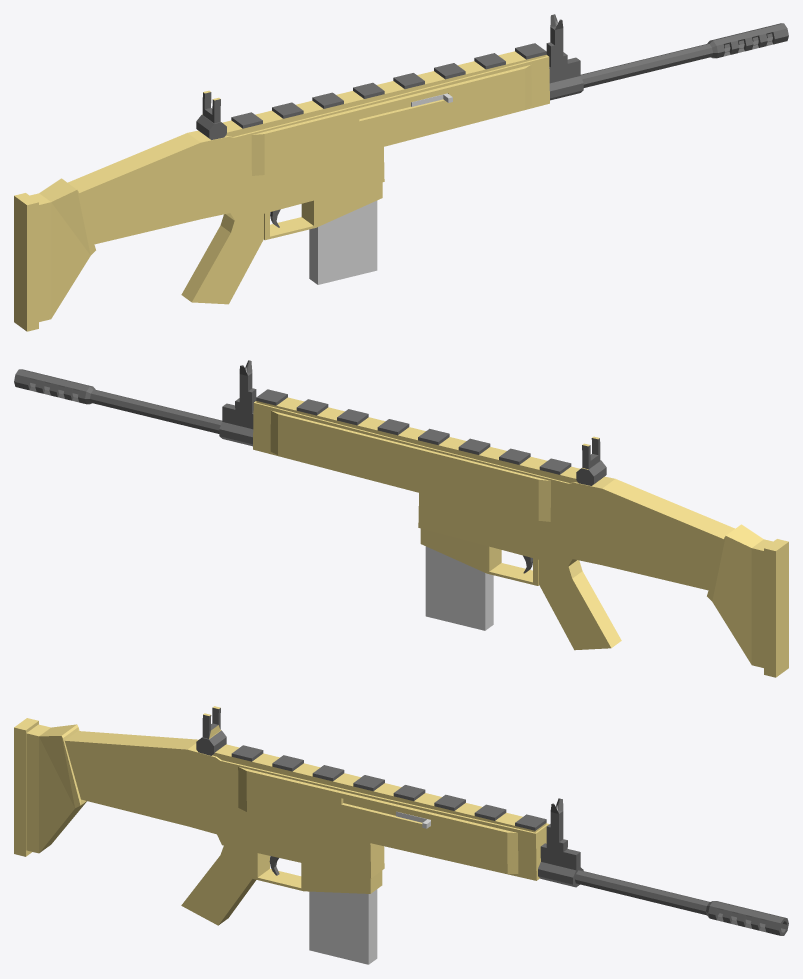
The model's file is Scar.dae.
3 renders of one model, top to bottom at view 1: azimuth 30°, elevation 25°; view 2: azimuth 150°, elevation 25°; view 3: azimuth 330°, elevation 25°, orthographic.
Parts seen in each view (by area): view 1: Gun, Magazine; view 2: Gun, Magazine; view 3: Gun, Magazine.
Part boxes in pixels (x1,y1,x2,y2): Gun: (14, 14, 788, 331); Magazine: (309, 200, 377, 284); Gun: (14, 360, 788, 677); Magazine: (425, 546, 493, 630); Gun: (14, 706, 788, 935); Magazine: (309, 889, 377, 964).
Size of the model in its own units: 9.59 by 0.4727 by 2.53.
1 material, 1 textured.
